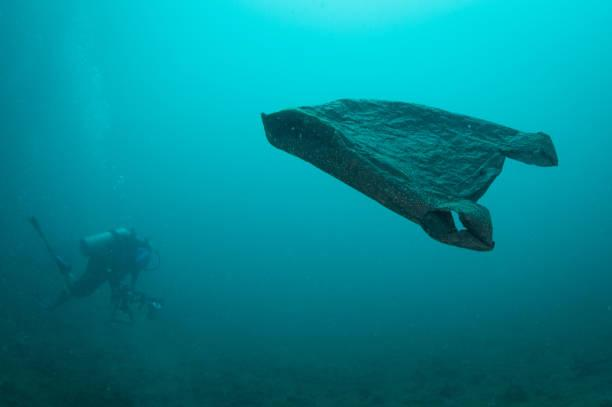Trash: (263, 86, 562, 254)
